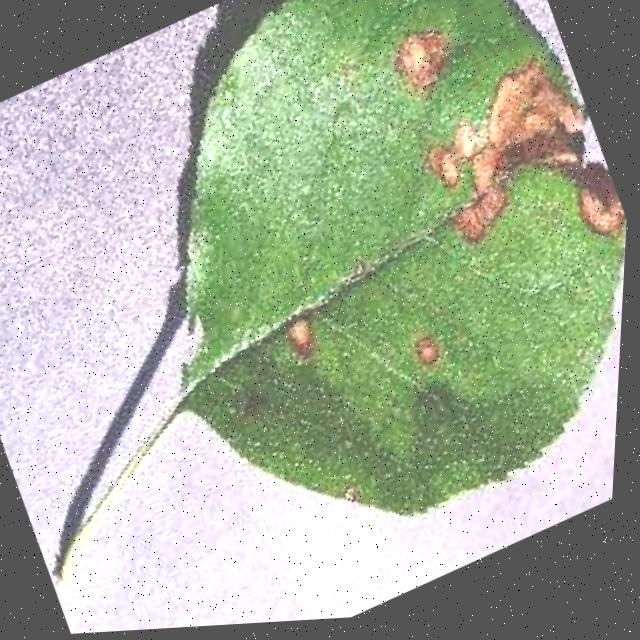black_rot: (392, 33, 636, 314), (371, 6, 474, 105), (260, 297, 338, 379), (387, 318, 462, 395)
